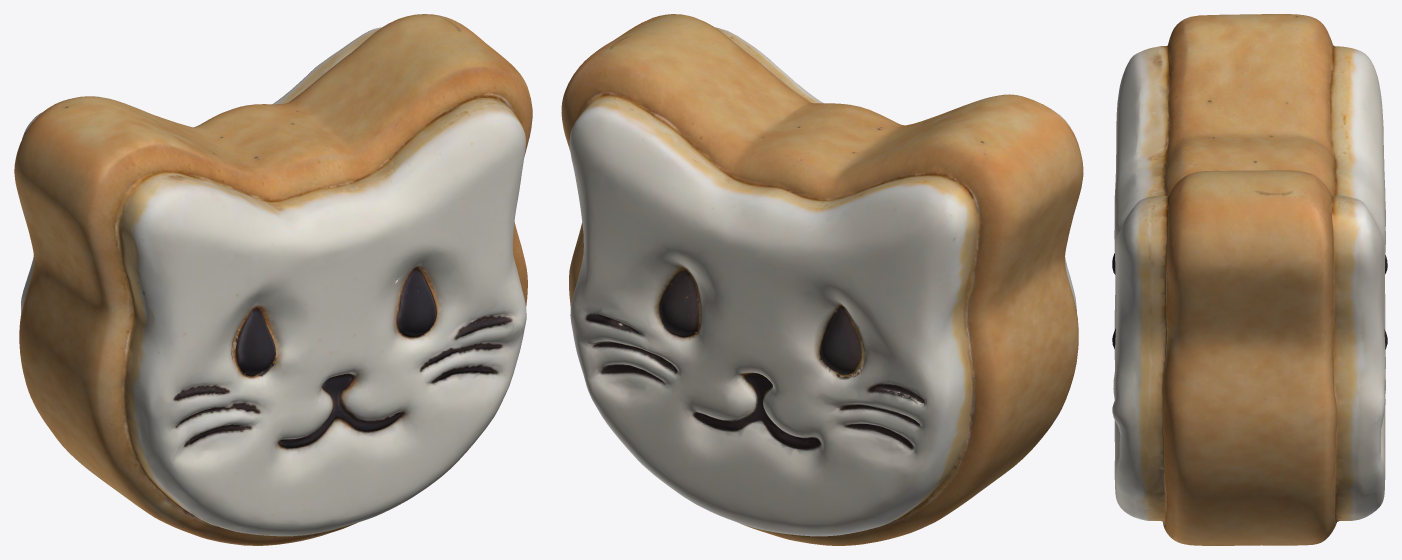
The model's file is CatTreat_0810163542_texture.fbx.
3 views of the same model, side by side, from view 1: azimuth 30°, elevation 25°; view 2: azimuth 150°, elevation 25°; view 3: azimuth 270°, elevation 25° (orthographic). The views are drawn at different scales.
Parts seen in each view (by area): view 1: Mesh1.0; view 2: Mesh1.0; view 3: Mesh1.0.
Part boxes in pixels (x1,y1,x2,y2): Mesh1.0: (14, 14, 532, 545); Mesh1.0: (561, 14, 1083, 545); Mesh1.0: (1112, 14, 1387, 545).
Size of the model in its own units: 110 by 100 by 59.22.
1 material, 1 textured.
